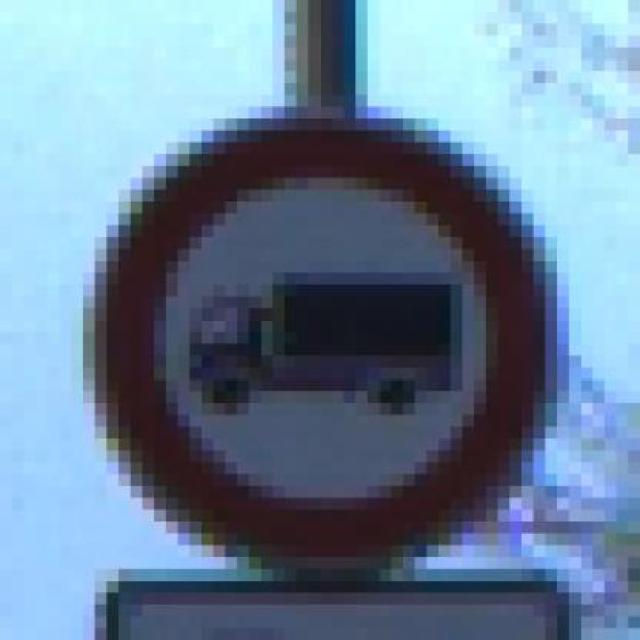Truck traffic is prohibited: (75, 88, 596, 586)
